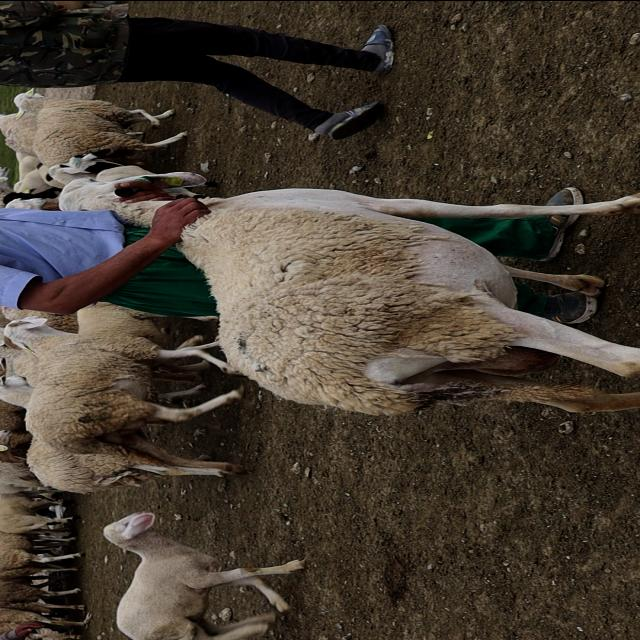Score_2: (178, 188, 639, 415)
